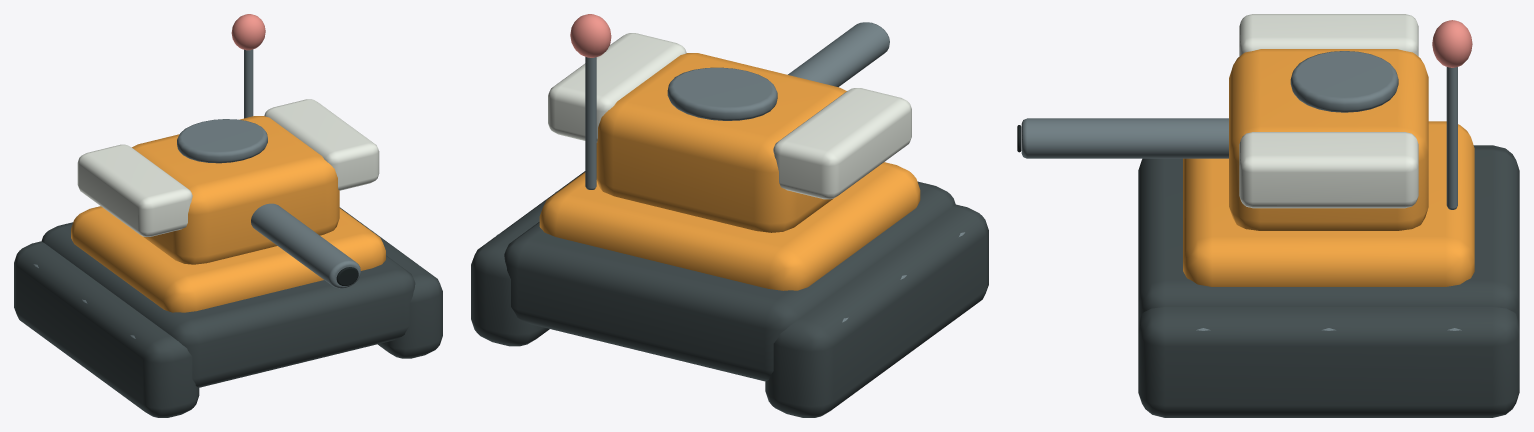
Rendered from boss.glb.
3 renders of one model, left to right at view 1: azimuth 30°, elevation 25°; view 2: azimuth 150°, elevation 25°; view 3: azimuth 270°, elevation 25°, orthographic. The views are drawn at different scales.
Parts seen in each view (by area): view 1: BOSS_ROOT / Tank chassis, BOSS_ROOT / Track belt, BOSS_ROOT / Tank turret armor, BOSS_ROOT / Tank upper hull, Boss command armor, Boss command armor.001, BOSS_ROOT / Recoil barrel, BOSS_ROOT / Track belt.001, BOSS_ROOT / Tank hatch, Boss beacon, Boss antenna; view 2: BOSS_ROOT / Tank chassis, BOSS_ROOT / Tank turret armor, BOSS_ROOT / Track belt, BOSS_ROOT / Tank upper hull, Boss command armor, Boss command armor.001, BOSS_ROOT / Track belt.001, BOSS_ROOT / Tank hatch, BOSS_ROOT / Recoil barrel, Boss antenna, Boss beacon; view 3: BOSS_ROOT / Track belt.001, BOSS_ROOT / Tank upper hull, BOSS_ROOT / Tank chassis, BOSS_ROOT / Tank turret armor, Boss command armor.001, BOSS_ROOT / Recoil barrel, Boss command armor, BOSS_ROOT / Tank hatch, Boss antenna, Boss beacon.
Boxes of the visible parts, bbox=[...] form: BOSS_ROOT / Tank chassis: bbox=[41, 222, 415, 387]; BOSS_ROOT / Track belt: bbox=[14, 241, 199, 417]; BOSS_ROOT / Tank turret armor: bbox=[132, 116, 339, 264]; BOSS_ROOT / Tank upper hull: bbox=[71, 206, 385, 312]; Boss command armor: bbox=[77, 144, 192, 236]; Boss command armor.001: bbox=[264, 99, 379, 190]; BOSS_ROOT / Recoil barrel: bbox=[251, 203, 360, 288]; BOSS_ROOT / Track belt.001: bbox=[339, 207, 442, 358]; BOSS_ROOT / Tank hatch: bbox=[177, 119, 267, 163]; Boss beacon: bbox=[231, 14, 265, 50]; Boss antenna: bbox=[244, 49, 253, 118]; BOSS_ROOT / Tank chassis: bbox=[504, 181, 955, 381]; BOSS_ROOT / Tank turret armor: bbox=[596, 53, 846, 232]; BOSS_ROOT / Track belt: bbox=[765, 204, 988, 417]; BOSS_ROOT / Tank upper hull: bbox=[539, 162, 920, 290]; Boss command armor: bbox=[773, 88, 911, 199]; Boss command armor.001: bbox=[548, 33, 686, 142]; BOSS_ROOT / Track belt.001: bbox=[471, 171, 585, 346]; BOSS_ROOT / Tank hatch: bbox=[667, 67, 777, 120]; BOSS_ROOT / Recoil barrel: bbox=[788, 22, 889, 87]; Boss antenna: bbox=[585, 57, 596, 189]; Boss beacon: bbox=[570, 14, 611, 57]; BOSS_ROOT / Track belt.001: bbox=[1138, 307, 1519, 417]; BOSS_ROOT / Tank upper hull: bbox=[1183, 121, 1474, 286]; BOSS_ROOT / Tank chassis: bbox=[1138, 147, 1519, 324]; BOSS_ROOT / Tank turret armor: bbox=[1229, 49, 1428, 230]; Boss command armor.001: bbox=[1239, 132, 1418, 208]; BOSS_ROOT / Recoil barrel: bbox=[1021, 118, 1228, 158]; Boss command armor: bbox=[1239, 14, 1418, 56]; BOSS_ROOT / Tank hatch: bbox=[1290, 51, 1398, 112]; Boss antenna: bbox=[1446, 67, 1457, 209]; Boss beacon: bbox=[1432, 20, 1472, 67].
Size of the model in its own units: 2.43 by 2.12 by 2.73.
